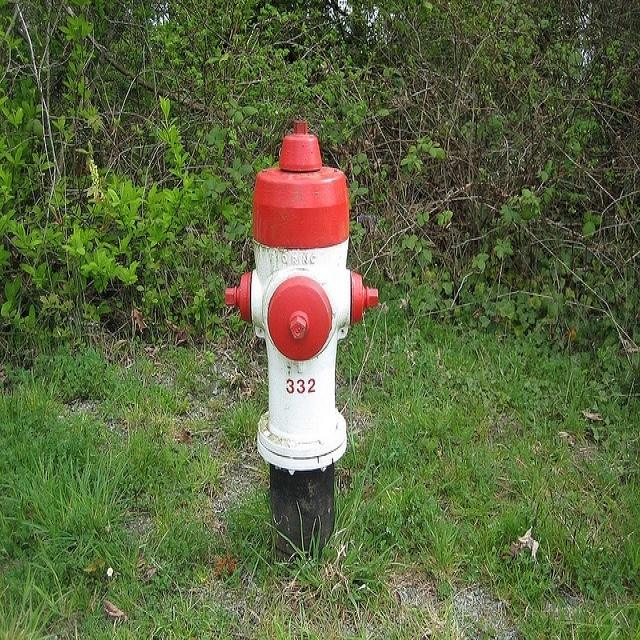fire_hydrant: (213, 136, 401, 576)
